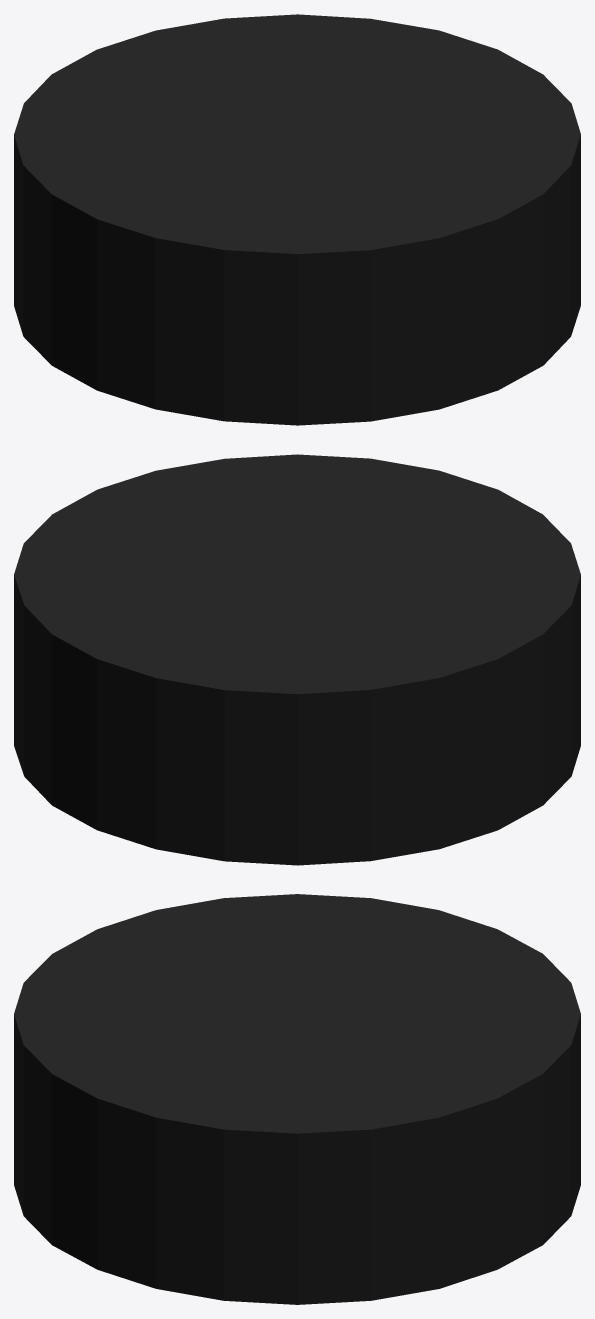
Rendered from disco.obj.
3 views of the same model, one above another, from view 1: azimuth 30°, elevation 25°; view 2: azimuth 150°, elevation 25°; view 3: azimuth 270°, elevation 25° (orthographic).
Visible parts, largest first — view 1: disco; view 2: disco; view 3: disco.
Part boxes in pixels (x1=…): disco: x1=14, y1=14, x2=580, y2=425; disco: x1=14, y1=454, x2=580, y2=865; disco: x1=14, y1=894, x2=580, y2=1304.
Size of the model in its own units: 0.0762 by 0.0254 by 0.0762.
1 material, 1 textured.
